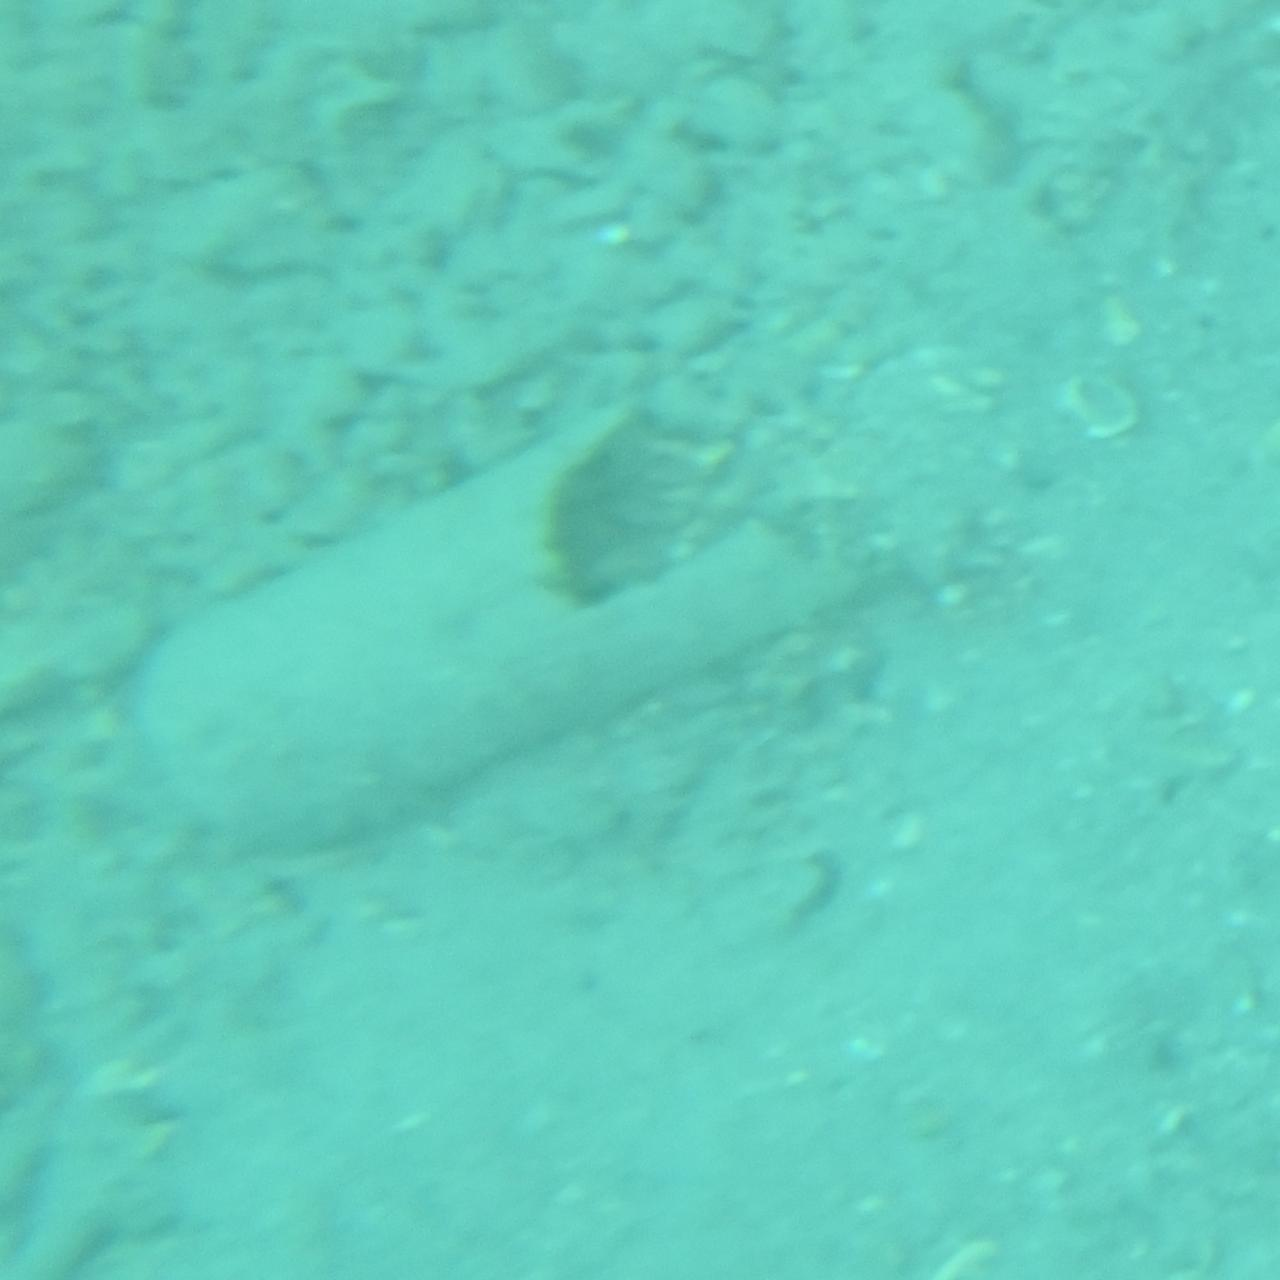Rifiuto: (137, 413, 855, 867)
